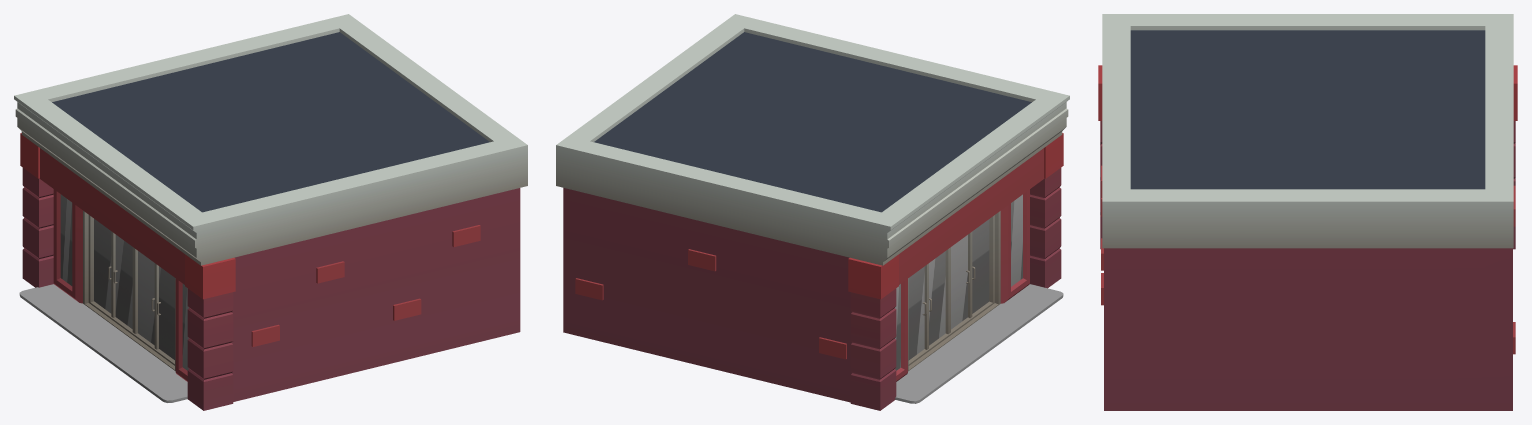
File: Building_21_5_F.fbx
3 renders of one model, left to right at view 1: azimuth 30°, elevation 25°; view 2: azimuth 150°, elevation 25°; view 3: azimuth 270°, elevation 25°, orthographic. The views are drawn at different scales.
Visible parts, largest first — view 1: Building_21_5_F; view 2: Building_21_5_F; view 3: Building_21_5_F.
Boxes of the visible parts, x1,y1,x2,y2 form: Building_21_5_F: (14, 14, 527, 410); Building_21_5_F: (556, 14, 1069, 410); Building_21_5_F: (1098, 14, 1517, 410).
Size of the model in its own units: 779 by 400 by 713.
